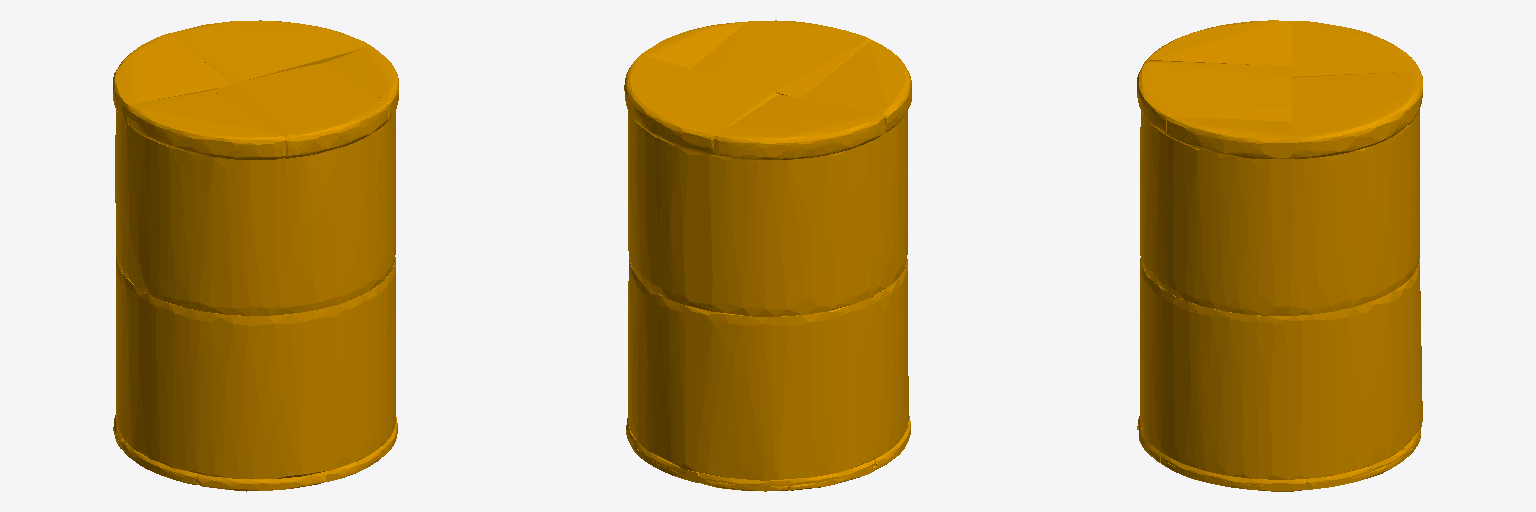
The robot description file, URDF, robot "002_master_chef_can":
<?xml version="1.0" encoding="UTF-8"?>
<robot name="002_master_chef_can">
	<link name="base">
		<collision>
			<geometry>
				<mesh filename="..\vhacd\002_master_chef_can_vhacd.obj" scale="1.0 1.0 1.0"/>
			</geometry>
			<origin xyz="0 0 0"/>
			<contact_coefficients mu="0.24" />
		</collision>
		<visual>
			<geometry>
				<mesh filename="..\vhacd\002_master_chef_can_vhacd.obj" scale="1.0 1.0 1.0"/>
			</geometry>
			<origin xyz="0 0 0"/>
		</visual>
		<inertial>
			<mass value="0"/>
			<inertia ixx="0.0" ixy="0.0" ixz="-0.0" iyy="0.0" iyz="0.0" izz="0.0" />
			<origin xyz="-0.017070729562052408 -0.009762855815018717 0.07058421976178009"/>
		</inertial>
	</link>
</robot>

--- Facts derived from the render (not from the file) ---
3 views of the same robot in one strip: view 1: azimuth 30°, elevation 25°; view 2: azimuth 150°, elevation 25°; view 3: azimuth 270°, elevation 25° (orthographic).
Robot: 002_master_chef_can — 1 links, 0 joints (none); root link base; default pose: all joints at 0.
Links seen in each view (by area): view 1: base; view 2: base; view 3: base.
Link boxes in pixels (left/top/right/bottom): base: left=113, top=20, right=398, bottom=491; base: left=624, top=20, right=911, bottom=491; base: left=1137, top=20, right=1422, bottom=491.
Bounding box of the posed robot: 0.1028 × 0.1028 × 0.1407 m (x, y, z).
Meshes: 1 distinct files referenced, 1 mesh visuals loaded (1 OBJ).